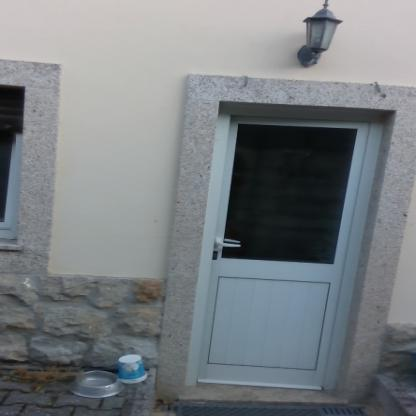door: (218, 116, 353, 390)
lever: (218, 240, 245, 250)
